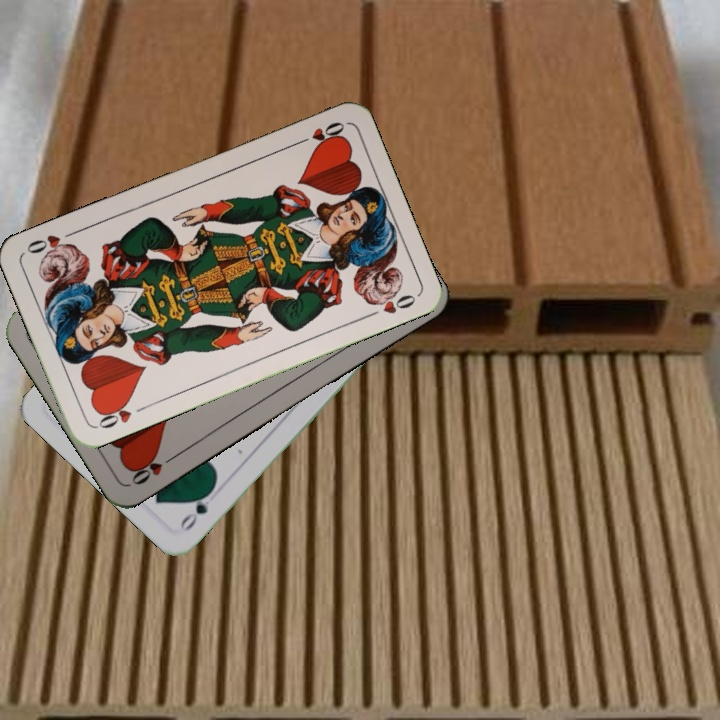GO: (176, 484, 217, 534)
HO: (127, 450, 180, 488), (93, 397, 149, 432), (291, 117, 348, 149)
